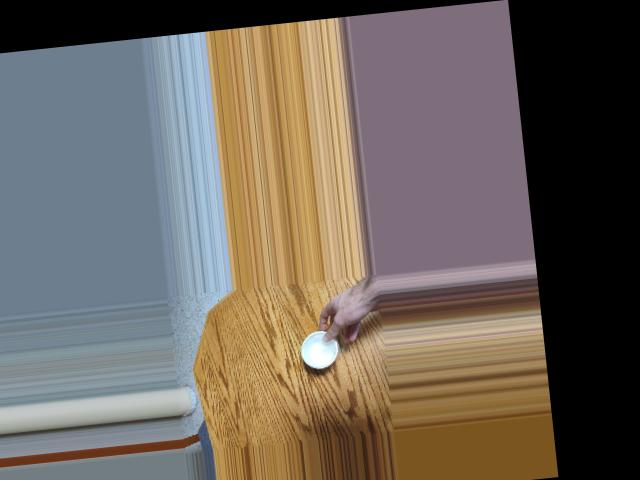cotage: (298, 324, 343, 368)
